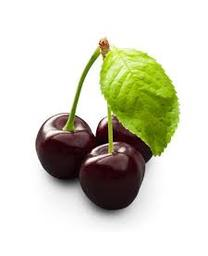cherry: (78, 141, 146, 211), (35, 112, 95, 182), (96, 112, 158, 165)
